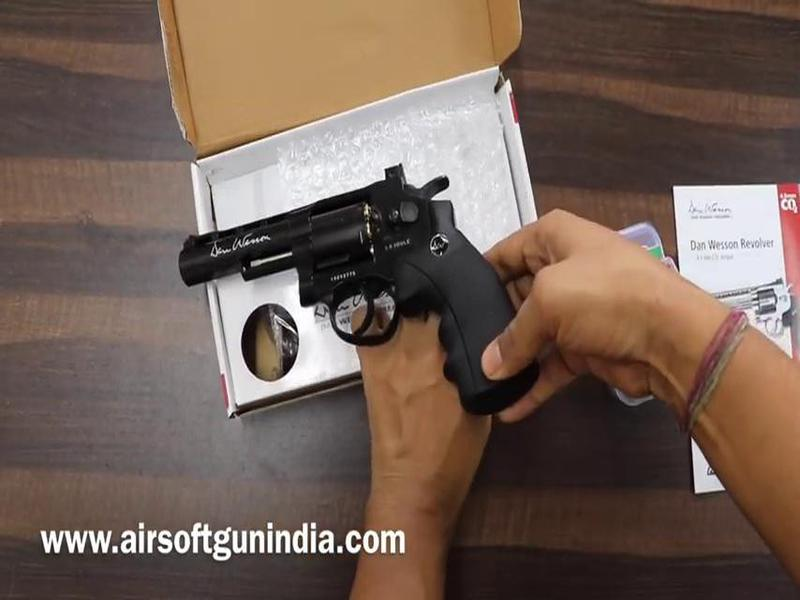Revolver: (165, 185, 507, 360)
